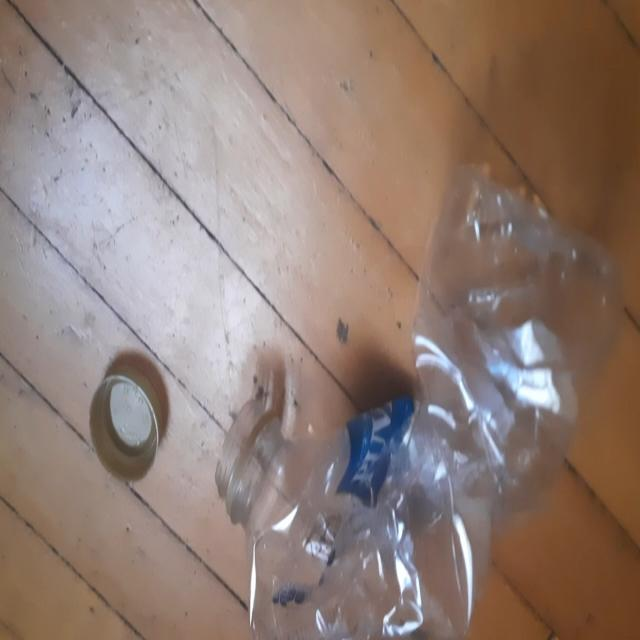Plastic: (222, 160, 622, 637)
